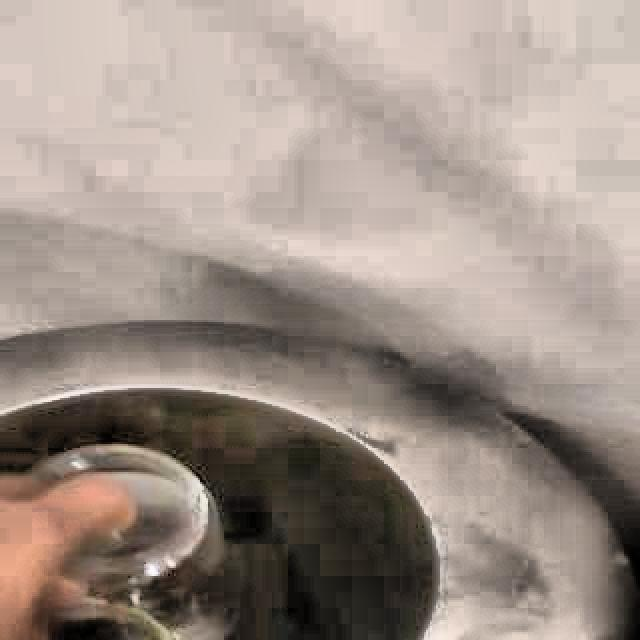glass: (32, 446, 235, 640)
